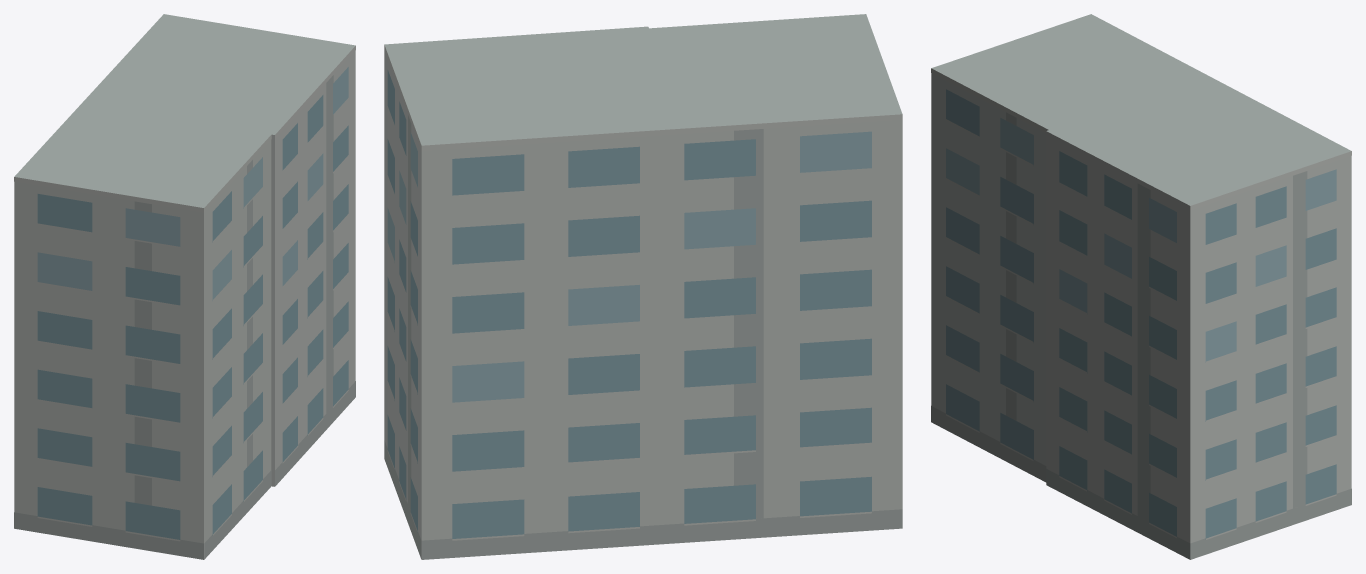
Rendered from survey-upis-32746252.glb.
The picture shows the model from 3 angles, left to right: view 1: azimuth 30°, elevation 25°; view 2: azimuth 150°, elevation 25°; view 3: azimuth 270°, elevation 25°; orthographic projection. The views are drawn at different scales.
Parts seen in each view (by area): view 1: survey-upis-32746252.tmp; view 2: survey-upis-32746252.tmp; view 3: survey-upis-32746252.tmp.
Boxes of the visible parts, <box> form: survey-upis-32746252.tmp: <box>14,14,355,559</box>; survey-upis-32746252.tmp: <box>384,14,902,559</box>; survey-upis-32746252.tmp: <box>931,14,1351,559</box>.
Size of the model in its own units: 21.29 by 18.3 by 19.71.
